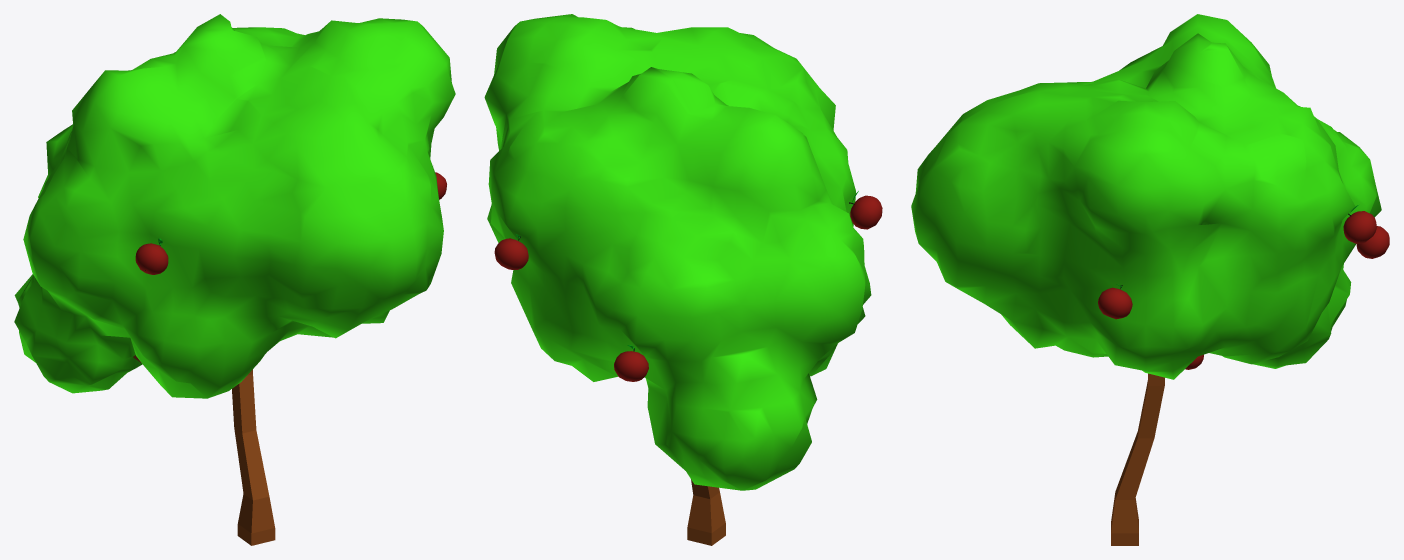
File: SM_AppleTree_001_LOD1.fbx
3 views of the same model, side by side, from view 1: azimuth 30°, elevation 25°; view 2: azimuth 150°, elevation 25°; view 3: azimuth 270°, elevation 25° (orthographic). The views are drawn at different scales.
Visible parts, largest first — view 1: AppleTree; view 2: AppleTree; view 3: AppleTree.
Boxes of the visible parts, bbox=[...] form: AppleTree: bbox=[14, 14, 455, 545]; AppleTree: bbox=[484, 14, 882, 545]; AppleTree: bbox=[911, 14, 1389, 545].
Bounding box in the file's own units: 322 × 385 × 336.
